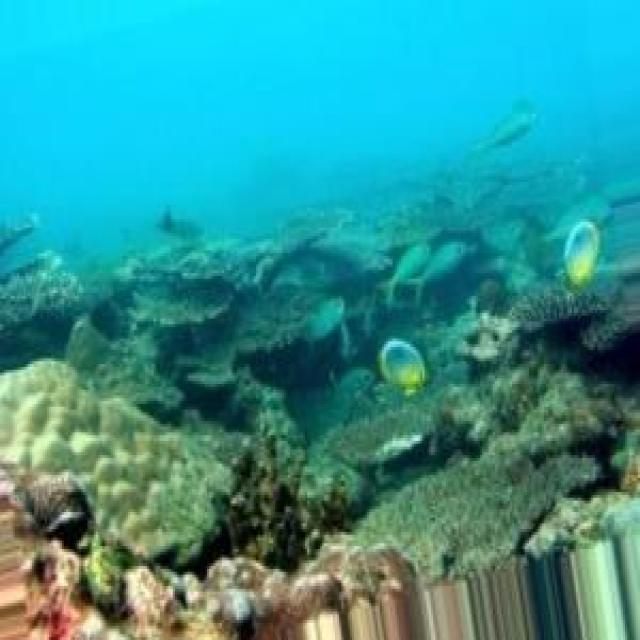bleached coral: (0, 361, 175, 475), (126, 558, 337, 640), (465, 313, 521, 367), (378, 432, 416, 458)
healthy coral: (0, 216, 109, 350), (256, 245, 390, 319), (124, 273, 241, 333)
